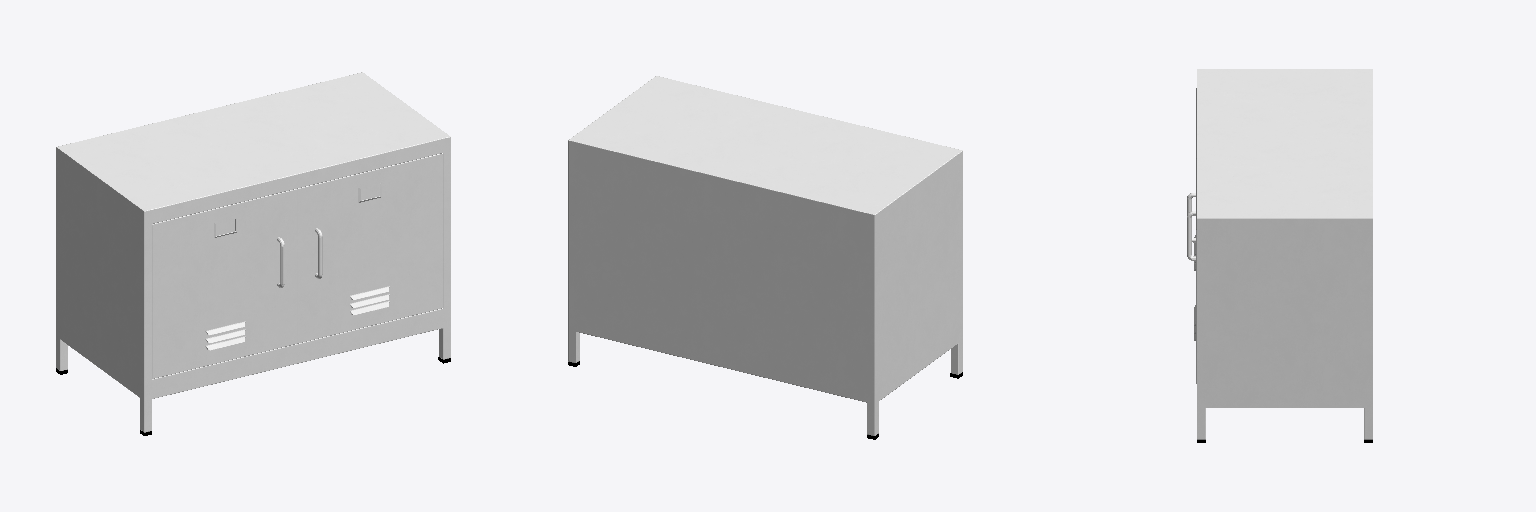
3 renders of one model, left to right at view 1: azimuth 30°, elevation 25°; view 2: azimuth 150°, elevation 25°; view 3: azimuth 270°, elevation 25°, orthographic.
Visible parts, largest first — view 1: Box093, Object008, Line001; view 2: Box093; view 3: Box093.
Part boxes in pixels (x1,y1,x2,y2): Box093: (56, 72, 450, 432); Object008: (152, 153, 442, 378); Line001: (277, 228, 322, 287); Box093: (568, 76, 962, 435); Box093: (1197, 69, 1372, 439).
Size of the model in its own units: 913 by 640 by 480.
Materials: 2 (1 with a texture image).